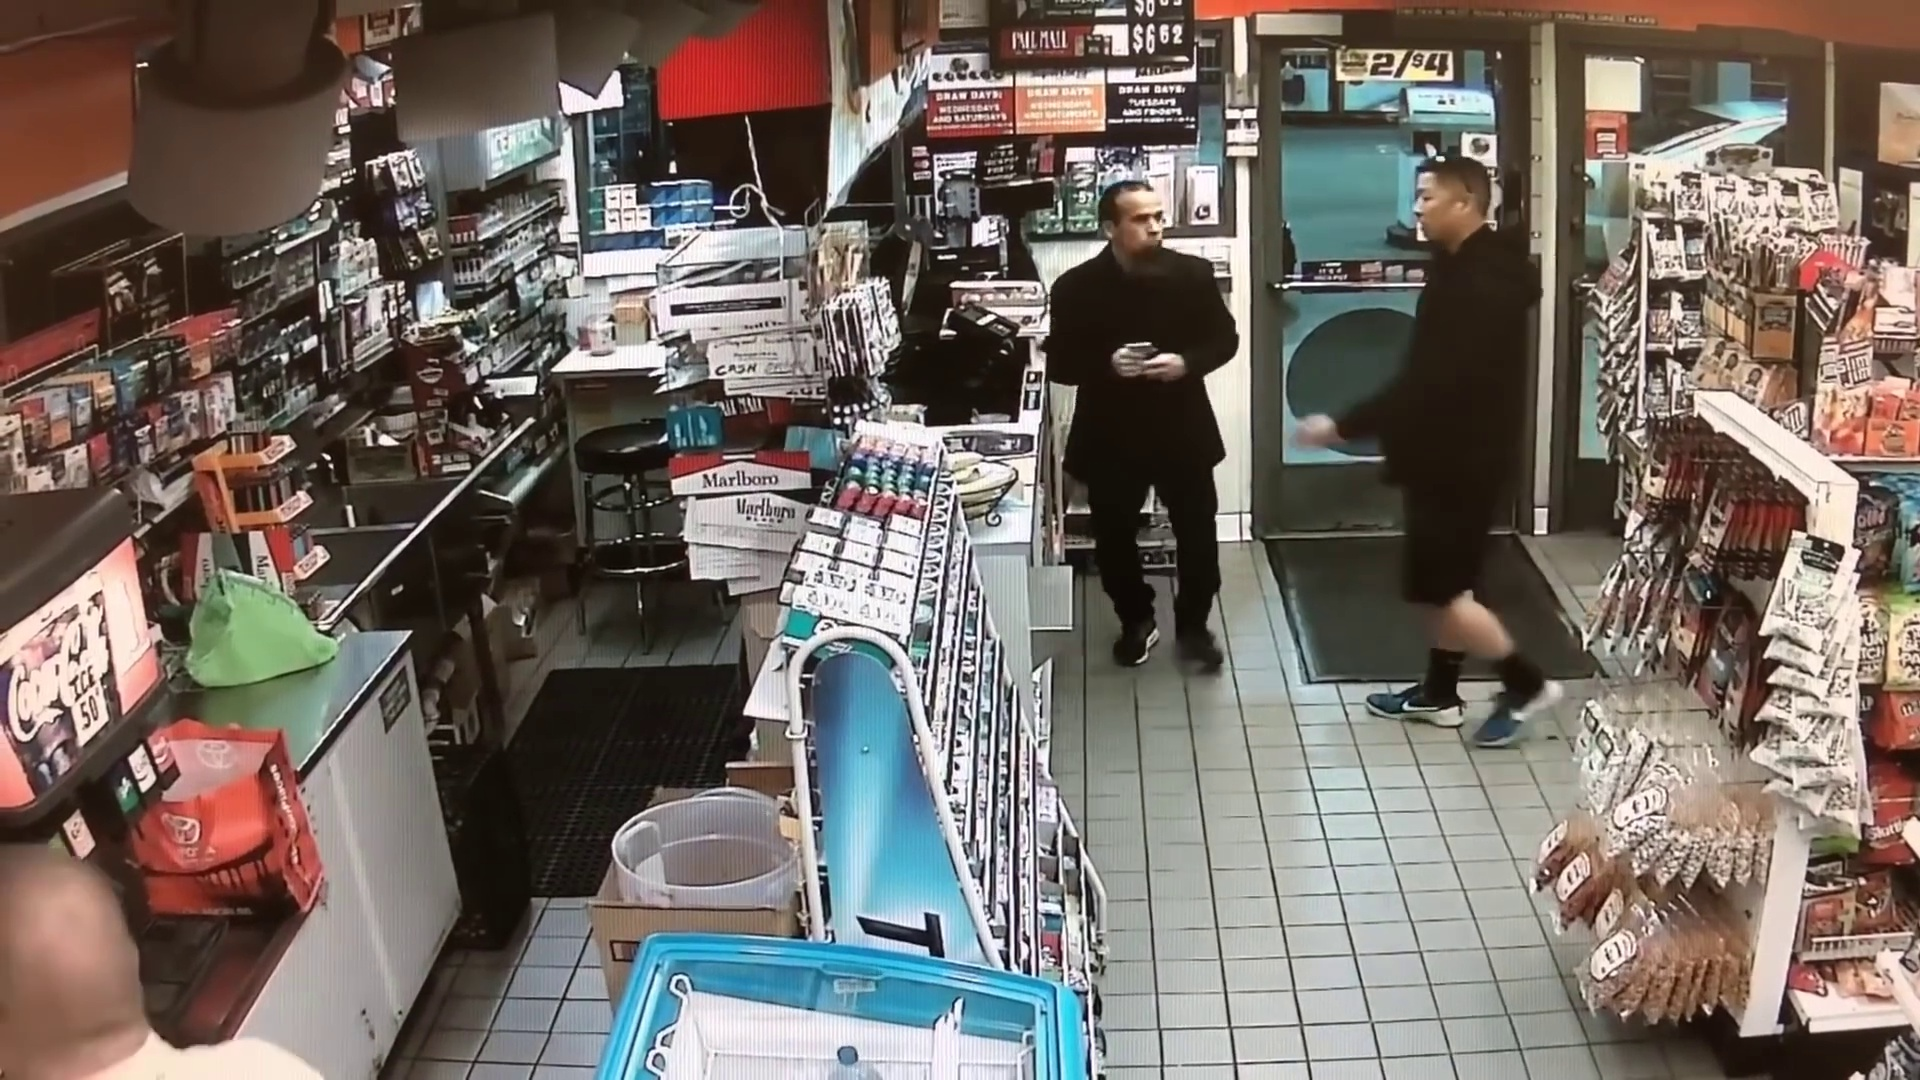face: (1411, 174, 1464, 238), (1119, 195, 1163, 254)
